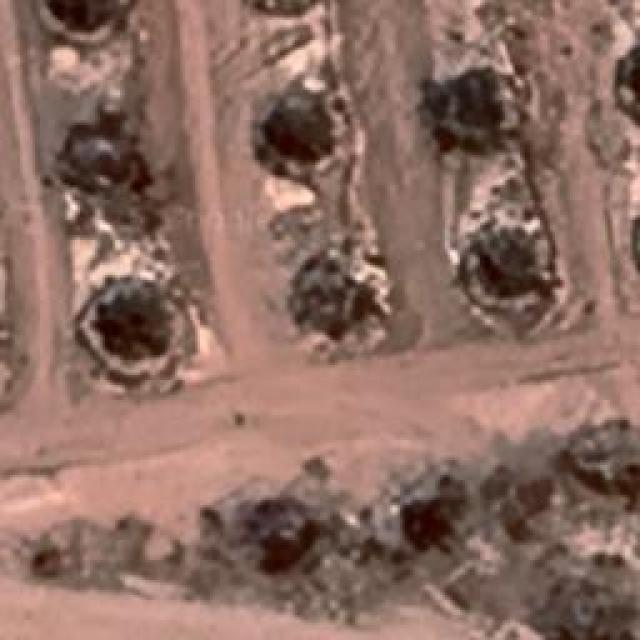PalmTree: (81, 14, 593, 604), (86, 288, 196, 370), (247, 90, 345, 175), (468, 234, 556, 326), (51, 108, 141, 194), (292, 262, 378, 336), (444, 82, 506, 136), (614, 35, 640, 119), (238, 0, 336, 18), (620, 33, 640, 111), (237, 0, 336, 11)
